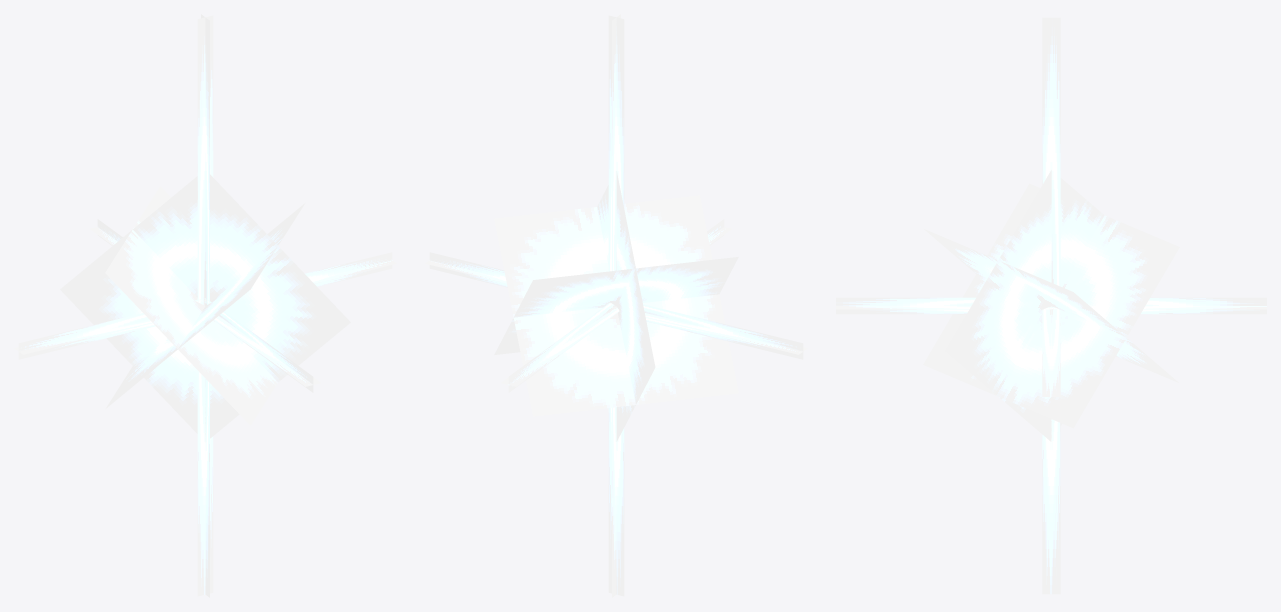
The model's file is sfx_spirit_lower_modelstudentbag_blue.glb.
3 renders of one model, left to right at view 1: azimuth 30°, elevation 25°; view 2: azimuth 150°, elevation 25°; view 3: azimuth 270°, elevation 25°, orthographic.
Parts seen in each view (by area): view 1: sfx_spirit_lower_modelstudentbag_blue_obj0; view 2: sfx_spirit_lower_modelstudentbag_blue_obj0; view 3: sfx_spirit_lower_modelstudentbag_blue_obj0.
Boxes of the visible parts, x1,y1,x2,y2 form: sfx_spirit_lower_modelstudentbag_blue_obj0: [14, 14, 396, 597]; sfx_spirit_lower_modelstudentbag_blue_obj0: [425, 14, 807, 597]; sfx_spirit_lower_modelstudentbag_blue_obj0: [836, 17, 1266, 594].
Size of the model in its own units: 1.22 by 1.79 by 1.22.
Materials: 1 (1 with a texture image).
